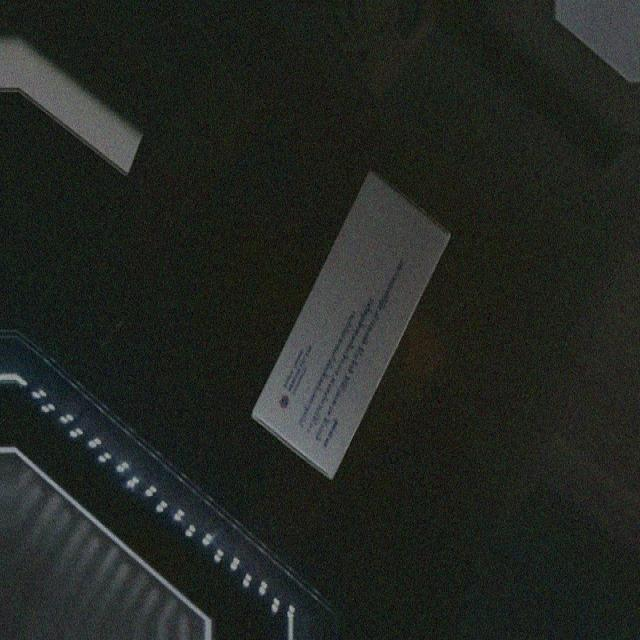sefloc: (252, 175, 449, 479)
